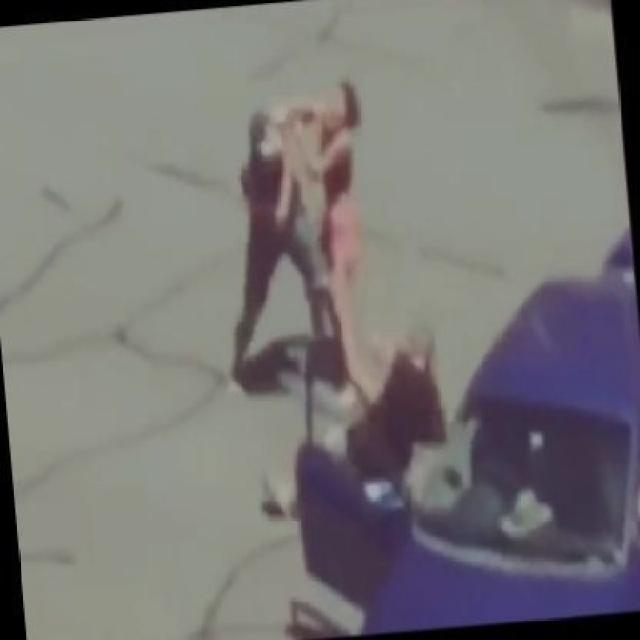fight: (192, 60, 385, 405)
